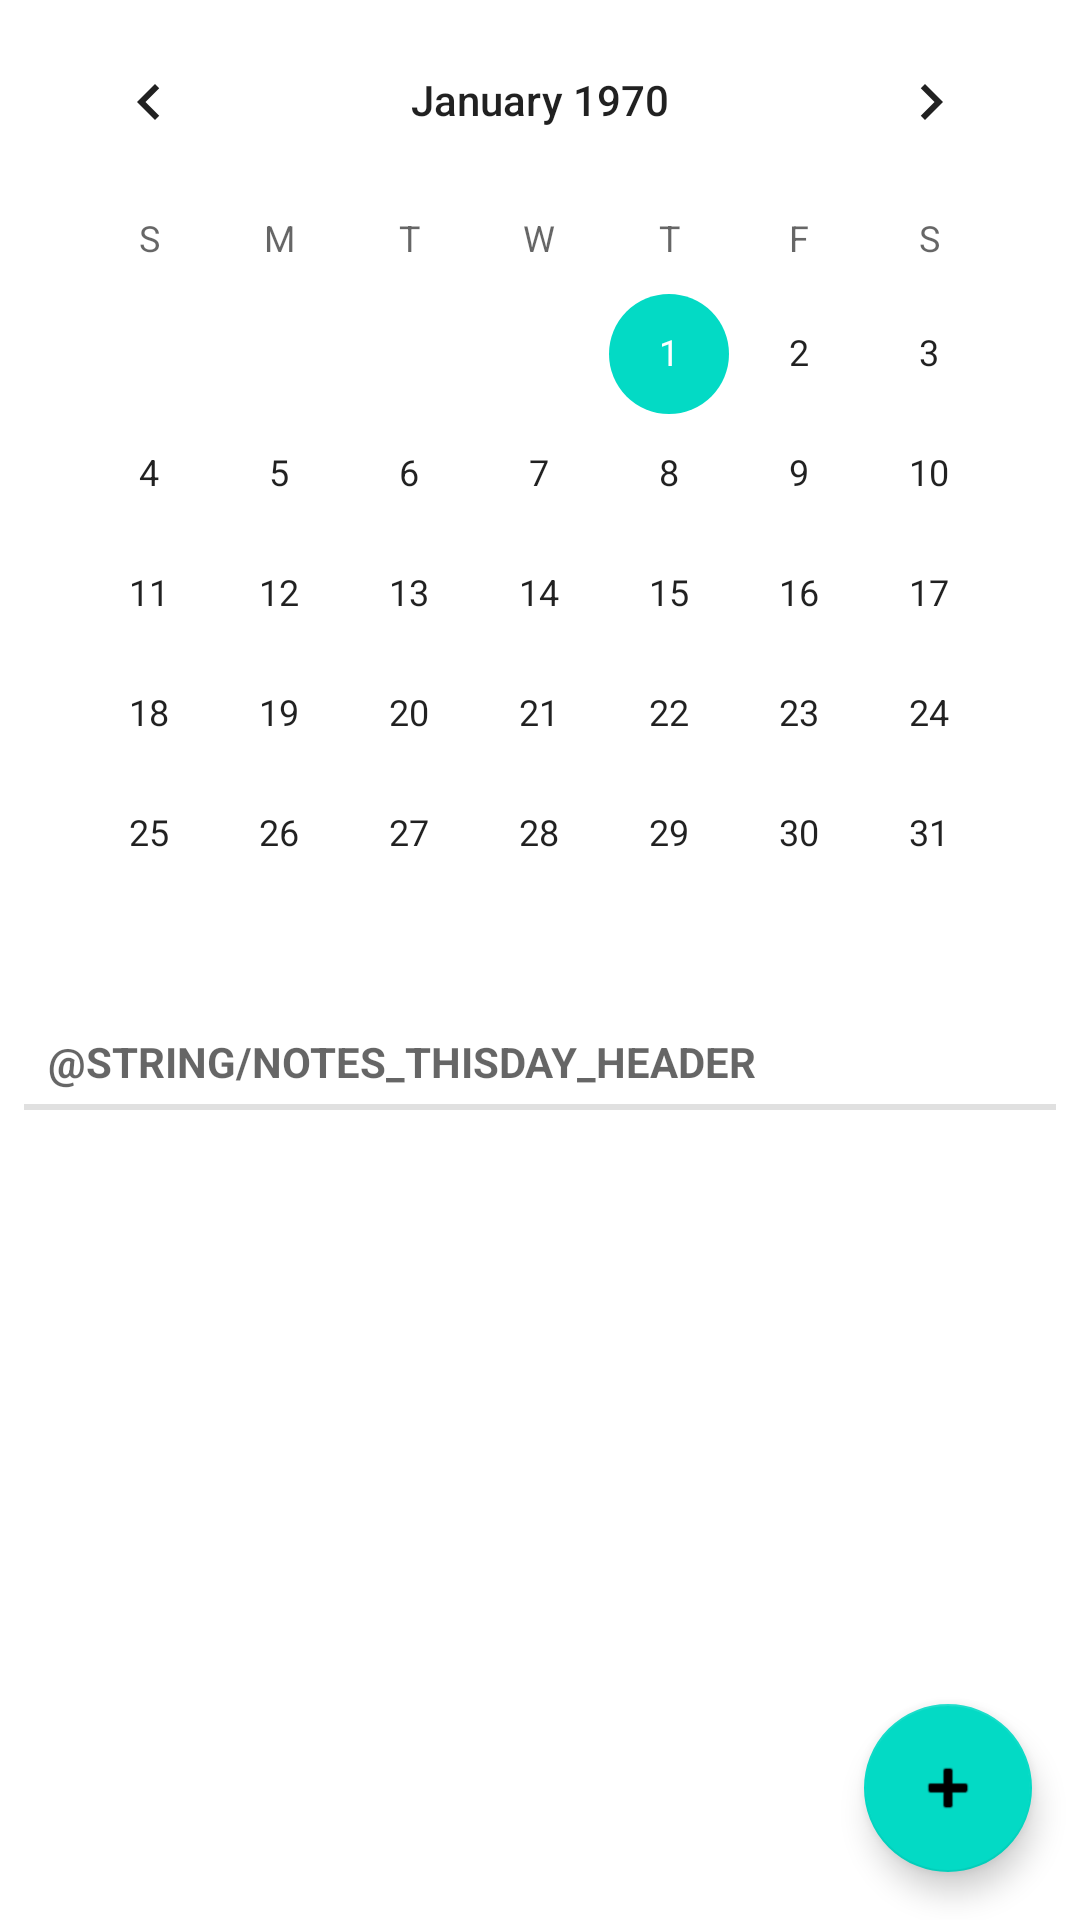

Named icons in this screenshot (1080px×1920px) and their centers, (x=x, y=y):
Add New Record: (x=948, y=1788)
